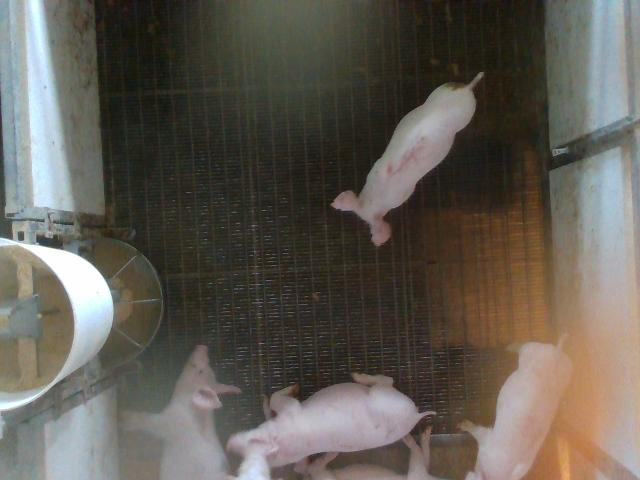pig-4: (460, 339, 572, 479)
pig-5: (331, 72, 483, 246)
